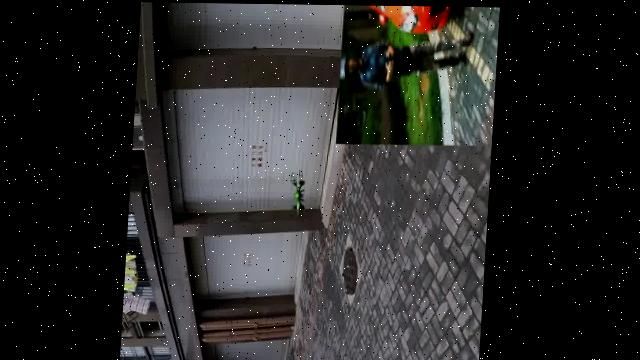drone: (285, 172, 309, 219)
